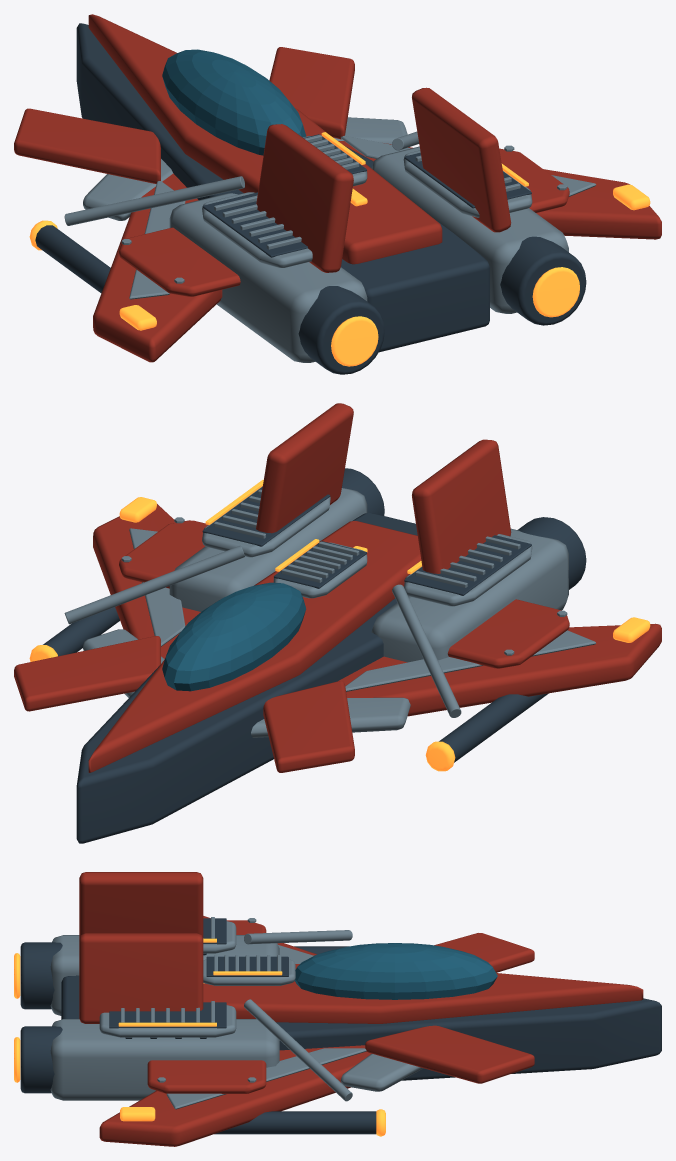
The model's file is Interceptor.fbx.
3 views of the same model, one above another, from view 1: azimuth 30°, elevation 25°; view 2: azimuth 150°, elevation 25°; view 3: azimuth 270°, elevation 25° (orthographic). The views are drawn at different scales.
Visible parts, largest first — view 1: Tapered titanium fuselage.004, Upper ceramic spine.004, Engine nacelle.008, Vertical stabilizer.008, Smoked canopy.004, Vertical stabilizer.009, Intercept forward fin.004, Swept main wing.008, Engine nacelle.009, Intercept forward fin.005, Inset service armor.228, Swept main wing.009 (+17 smaller); view 2: Tapered titanium fuselage.004, Upper ceramic spine.004, Swept main wing.008, Smoked canopy.004, Vertical stabilizer.008, Engine nacelle.008, Vertical stabilizer.009, Intercept forward fin.005, Intercept forward fin.004, Engine nacelle.009, Inset service armor.228, Swept main wing.009 (+20 smaller); view 3: Tapered titanium fuselage.004, Upper ceramic spine.004, Engine nacelle.009, Vertical stabilizer.009, Smoked canopy.004, Swept main wing.009, Vertical stabilizer.008, Intercept forward fin.005, Inset service armor.230, Wing cannon.009, Exhaust shroud.008, Exhaust shroud.009 (+14 smaller).
Part boxes in pixels (left/top/right/bottom): Tapered titanium fuselage.004: left=76, top=23, right=489, bottom=352; Upper ceramic spine.004: left=88, top=14, right=442, bottom=264; Engine nacelle.008: left=169, top=193, right=367, bottom=362; Vertical stabilizer.008: left=256, top=124, right=353, bottom=272; Smoked canopy.004: left=162, top=49, right=306, bottom=155; Vertical stabilizer.009: left=412, top=87, right=511, bottom=232; Intercept forward fin.004: left=14, top=108, right=160, bottom=183; Swept main wing.008: left=93, top=173, right=222, bottom=362; Engine nacelle.009: left=371, top=146, right=568, bottom=313; Intercept forward fin.005: left=269, top=47, right=354, bottom=139; Inset service armor.228: left=119, top=227, right=240, bottom=296; Swept main wing.009: left=338, top=141, right=661, bottom=239; Tapered titanium fuselage.004: left=76, top=513, right=417, bottom=843; Upper ceramic spine.004: left=88, top=521, right=421, bottom=772; Swept main wing.008: left=338, top=623, right=661, bottom=716; Smoked canopy.004: left=162, top=582, right=305, bottom=691; Vertical stabilizer.008: left=412, top=439, right=511, bottom=573; Engine nacelle.008: left=371, top=528, right=568, bottom=662; Vertical stabilizer.009: left=256, top=403, right=353, bottom=533; Intercept forward fin.005: left=14, top=636, right=160, bottom=711; Intercept forward fin.004: left=263, top=681, right=354, bottom=772; Engine nacelle.009: left=169, top=488, right=367, bottom=611; Inset service armor.228: left=447, top=599, right=569, bottom=668; Swept main wing.009: left=93, top=504, right=200, bottom=658; Tapered titanium fuselage.004: left=61, top=975, right=661, bottom=1080; Upper ceramic spine.004: left=203, top=964, right=643, bottom=1023; Engine nacelle.009: left=50, top=1019, right=279, bottom=1100; Vertical stabilizer.009: left=79, top=933, right=203, bottom=1023; Smoked canopy.004: left=294, top=943, right=497, bottom=999; Swept main wing.009: left=99, top=1045, right=371, bottom=1146; Vertical stabilizer.008: left=79, top=872, right=203, bottom=938; Intercept forward fin.005: left=365, top=1025, right=534, bottom=1083; Inset service armor.230: left=147, top=1060, right=266, bottom=1093; Wing cannon.009: left=214, top=1111, right=376, bottom=1134; Exhaust shroud.008: left=20, top=942, right=62, bottom=1009; Exhaust shroud.009: left=20, top=1026, right=62, bottom=1093.
Bounding box in the file's own units: 299 × 94.7 × 365.
